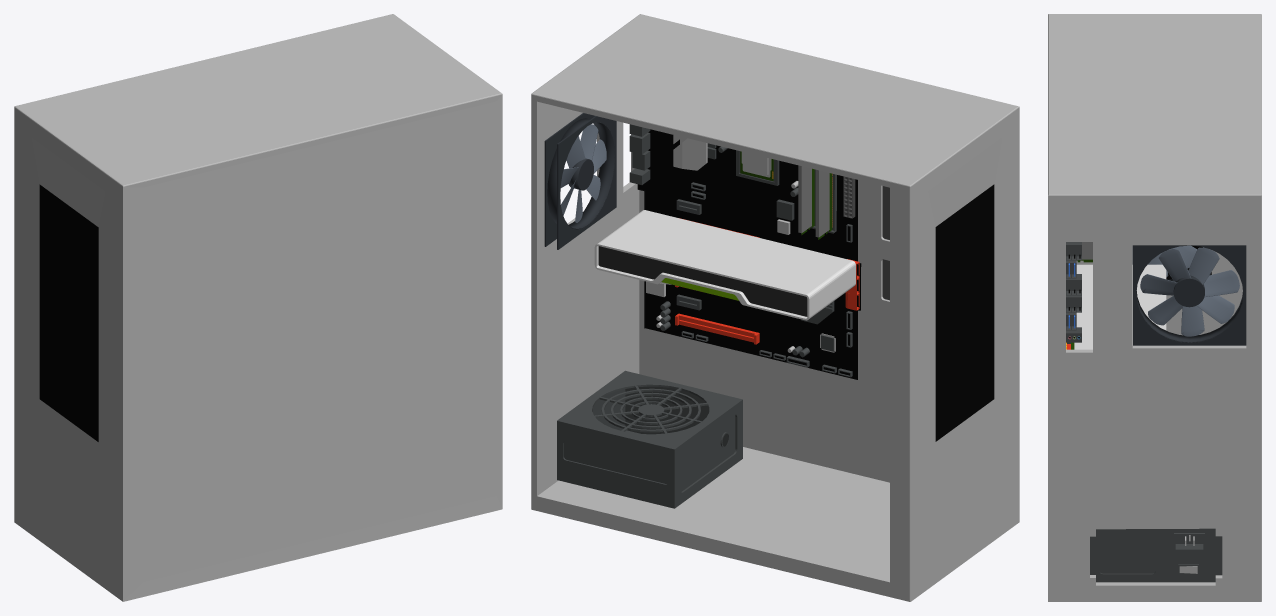
The model's file is case-v2.glb.
3 views of the same model, side by side, from view 1: azimuth 30°, elevation 25°; view 2: azimuth 150°, elevation 25°; view 3: azimuth 270°, elevation 25° (orthographic). The views are drawn at different scales.
Parts seen in each view (by area): view 1: Case; view 2: Case, MotherBoard, PowerSupply, GraphicsCard, RearFanCase, Ram, RearFanBlades, IO, CPU Heatsink, GPU Slot 3, CpuChip; view 3: Case, PowerSupply, RearFanCase, RearFanBlades, GraphicsCard, IO, FrontBottomFanBlades.
Part boxes in pixels (x1,y1,x2,y2): Case: (14,14,502,601); Case: (531,14,1019,601); MotherBoard: (637,129,861,379); PowerSupply: (557,370,742,508); GraphicsCard: (594,210,855,320); RearFanCase: (544,113,616,249); Ram: (798,165,832,239); RearFanBlades: (560,124,606,222); IO: (629,124,650,184); CPU Heatsink: (673,135,707,170); GPU Slot 3: (675,313,759,344); CpuChip: (740,151,773,180); Case: (1048,14,1261,601); PowerSupply: (1090,528,1222,582); RearFanCase: (1133,245,1246,345); RearFanBlades: (1140,247,1239,336); GraphicsCard: (1066,264,1166,349); IO: (1066,242,1081,342); FrontBottomFanBlades: (1132,245,1197,277).
Size of the model in its own units: 4.34 by 4.55 by 2.17.
